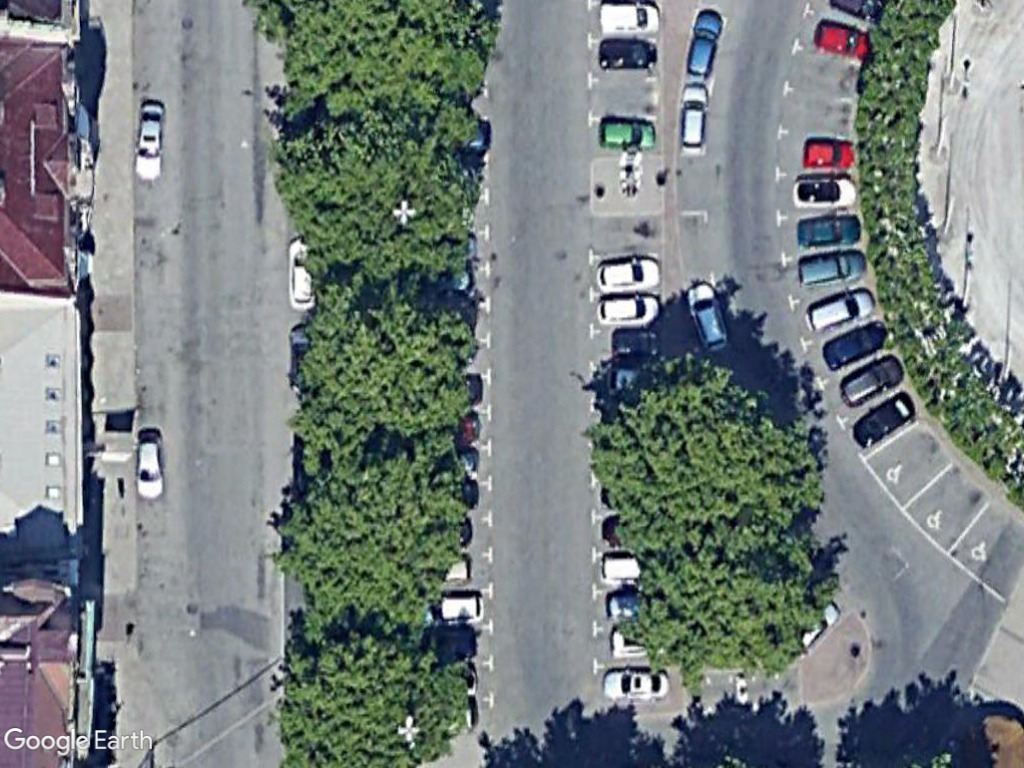car: (836, 348, 907, 412), (803, 282, 879, 339), (850, 388, 919, 449), (821, 316, 892, 373), (684, 279, 732, 355), (794, 245, 869, 292), (590, 286, 664, 332), (682, 7, 725, 84), (590, 252, 664, 296), (672, 81, 712, 161), (791, 209, 864, 252), (134, 93, 166, 187), (596, 666, 675, 703), (810, 18, 877, 61), (133, 431, 170, 507), (593, 1, 664, 38), (592, 35, 664, 71), (595, 116, 662, 153), (797, 136, 861, 173)
